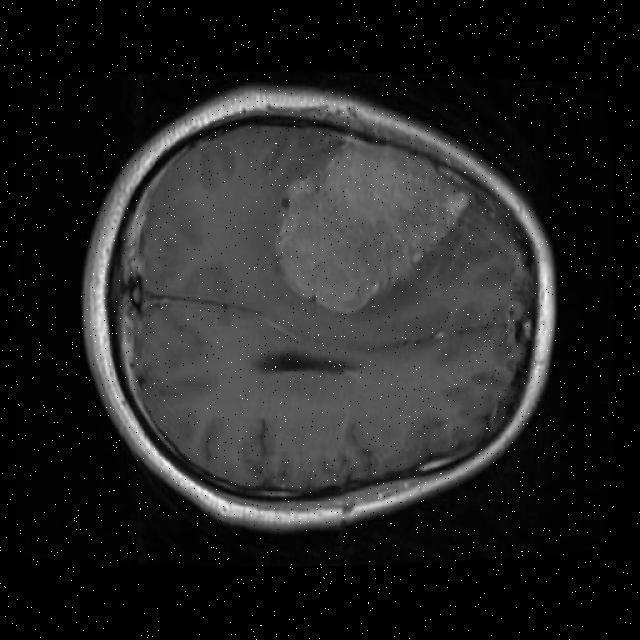Meningioma: (276, 140, 467, 314)
